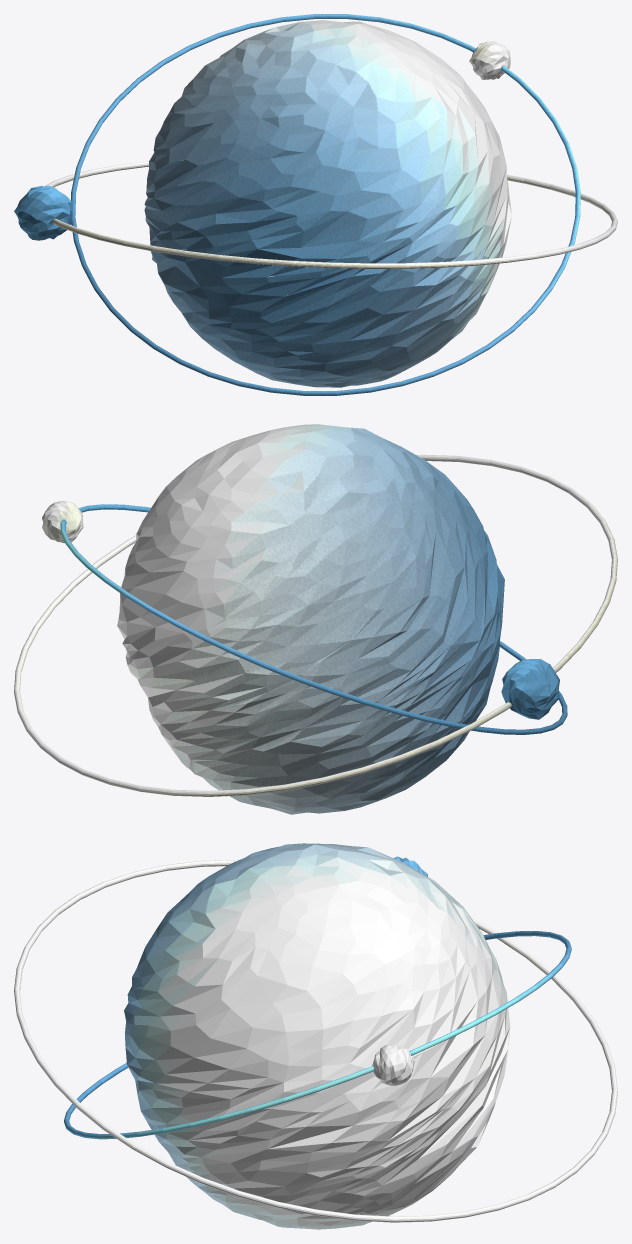
The model's file is ring2烘焙.fbx.
3 renders of one model, top to bottom at view 1: azimuth 30°, elevation 25°; view 2: azimuth 150°, elevation 25°; view 3: azimuth 270°, elevation 25°, orthographic. The views are drawn at different scales.
Parts seen in each view (by area): view 1: ring2; view 2: ring2; view 3: ring2.
Part boxes in pixels (left/top/right/bottom): ring2: left=14, top=14, right=617, bottom=395; ring2: left=14, top=424, right=617, bottom=814; ring2: left=14, top=843, right=617, bottom=1229.
Size of the model in its own units: 320 by 198 by 308.
1 material, 1 textured.
